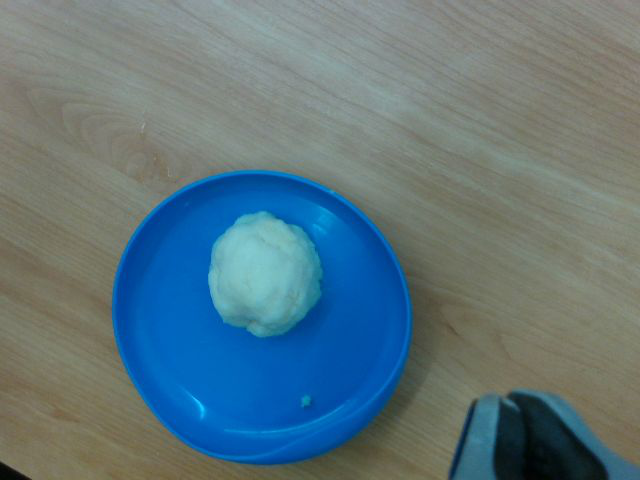mashed_potato: (208, 213, 320, 337)
